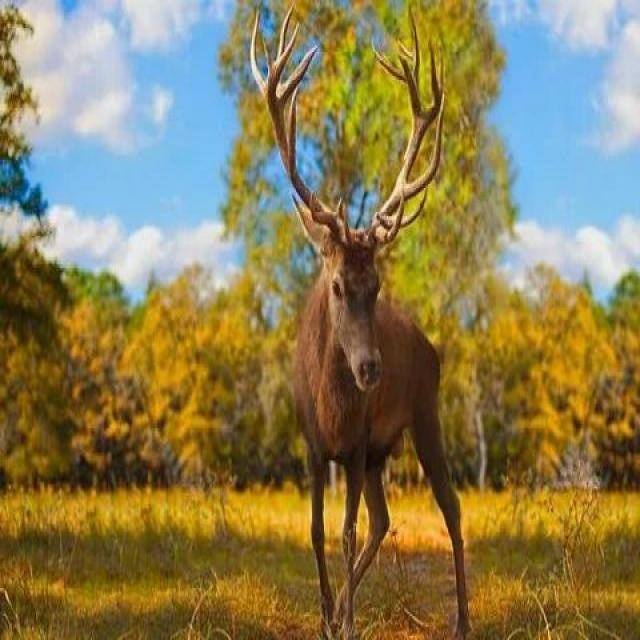deer: (218, 93, 478, 518)
